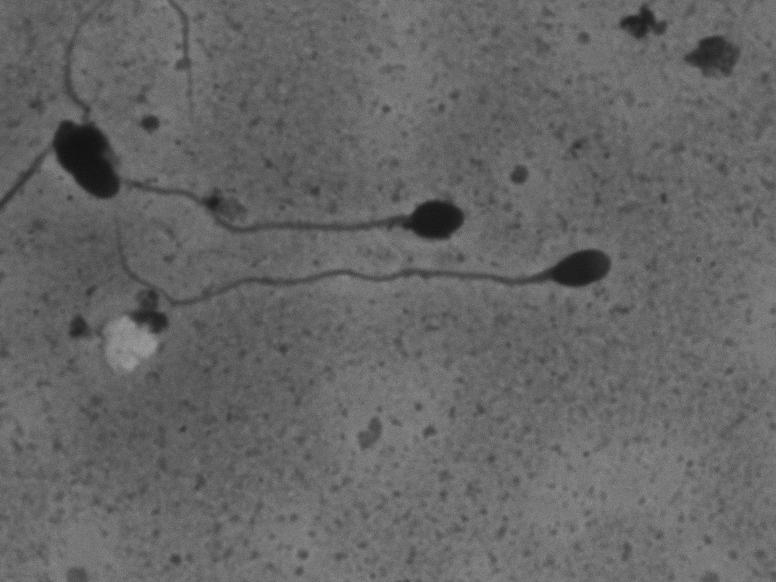Abnormal: (52, 5, 478, 246)
Normal: (79, 205, 627, 315)
